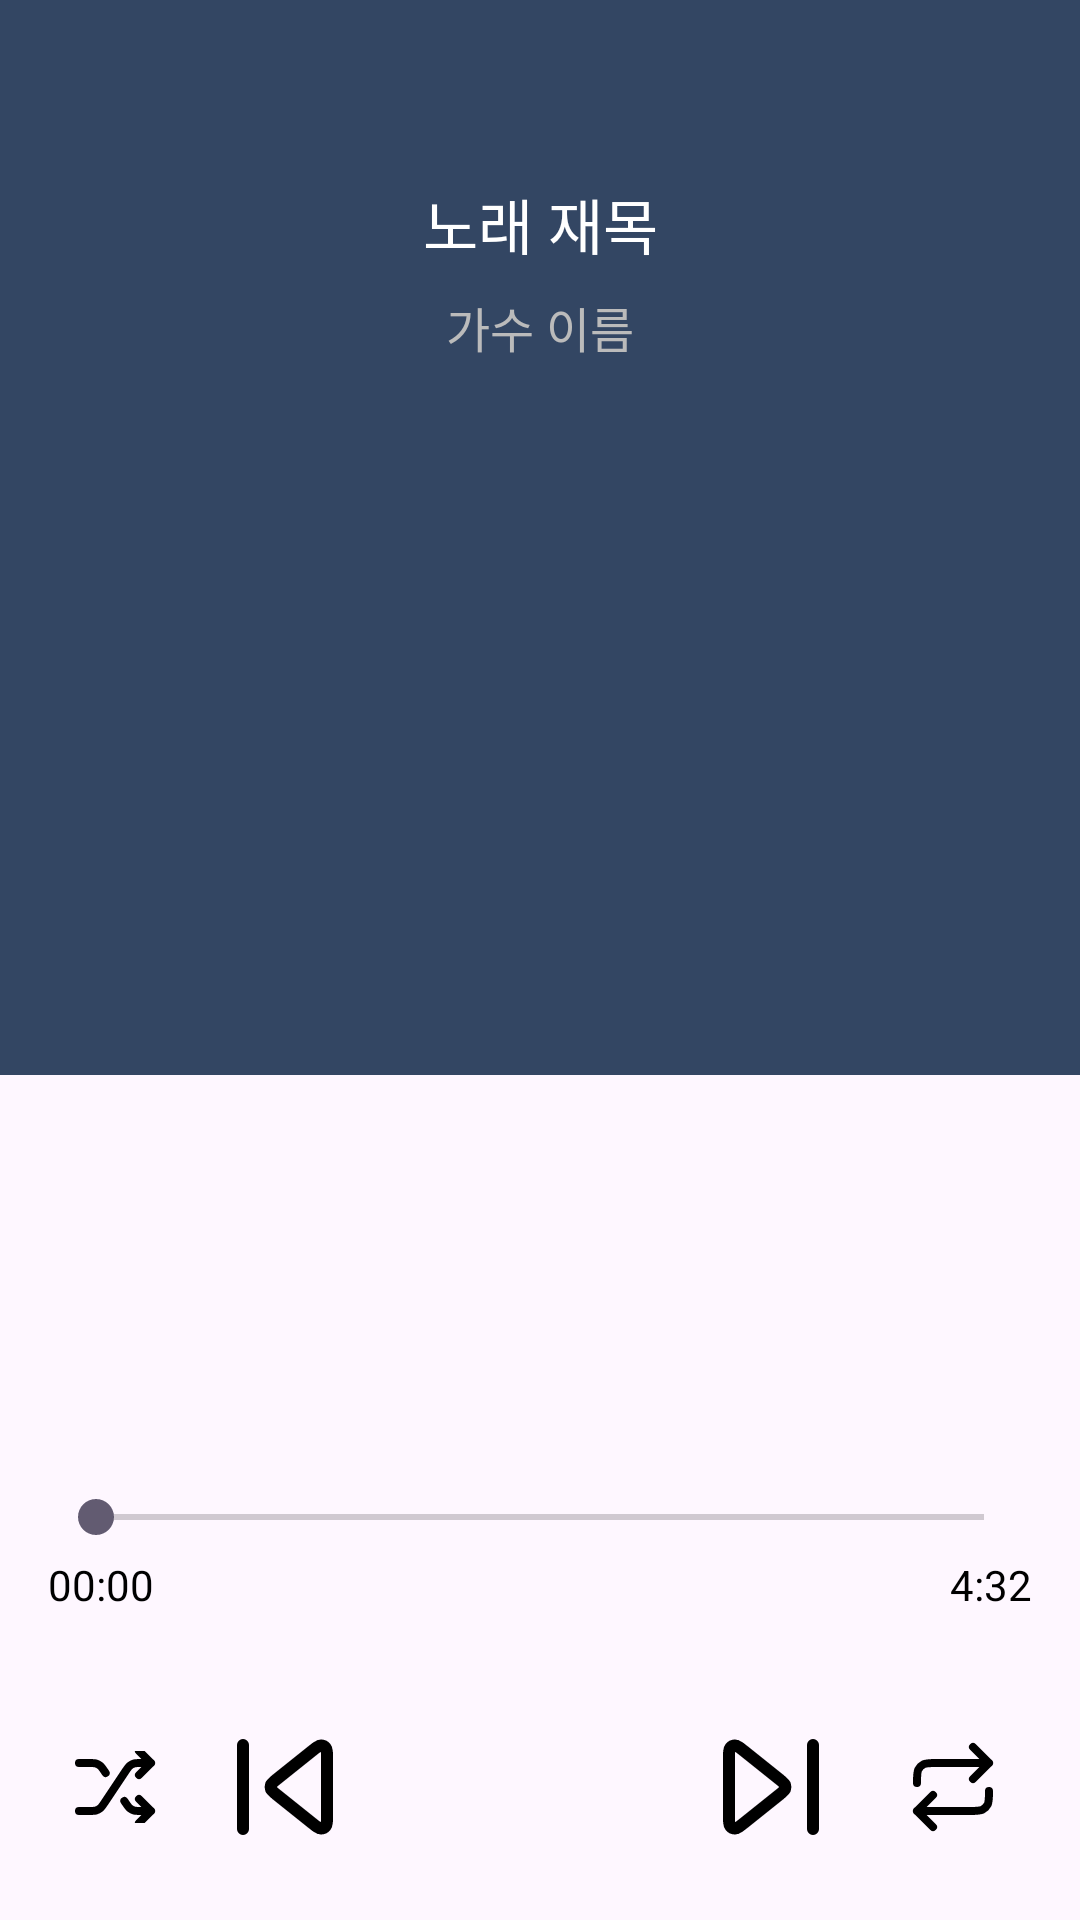

Icon click points for this 1080px×1920px phone screenshot, format (x,y):
다음 곡: (771,1787)
반복 재생: (953,1787)
셔플: (115,1787)
이전 곡: (285,1787)
